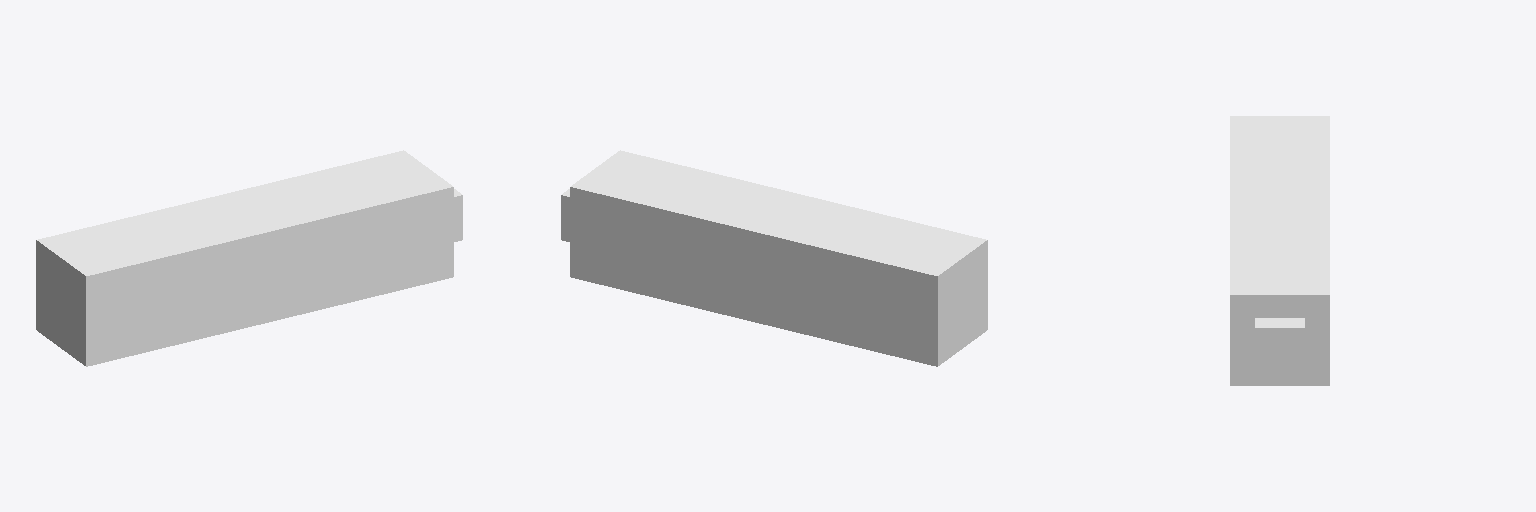
File: RedbulletPrj.obj
The picture shows the model from 3 angles: view 1: azimuth 30°, elevation 25°; view 2: azimuth 150°, elevation 25°; view 3: azimuth 270°, elevation 25°; orthographic projection.
Parts seen in each view (by area): view 1: RedbulletPrj; view 2: RedbulletPrj; view 3: RedbulletPrj.
Boxes of the visible parts, x1=… form: RedbulletPrj: x1=36, y1=150, x2=462, y2=366; RedbulletPrj: x1=561, y1=150, x2=987, y2=366; RedbulletPrj: x1=1230, y1=116, x2=1329, y2=385.
Bounding box in the file's own units: 18 × 4 × 4.